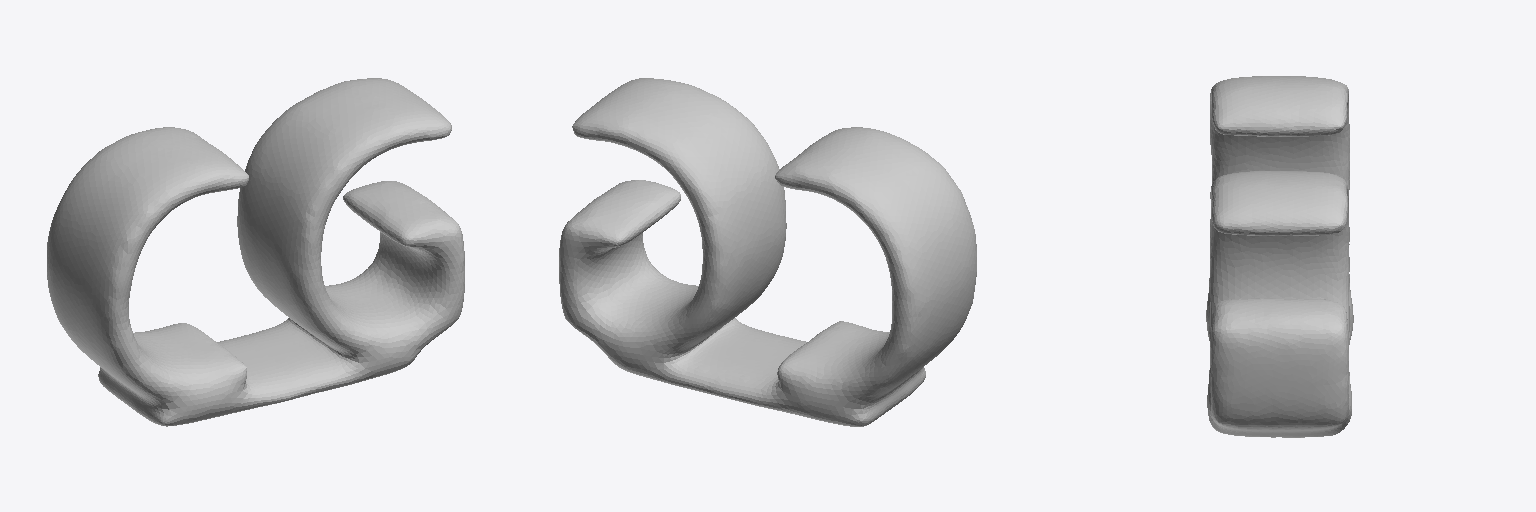
File: cg_smooth.obj
3 views of the same model, side by side, from view 1: azimuth 30°, elevation 25°; view 2: azimuth 150°, elevation 25°; view 3: azimuth 270°, elevation 25° (orthographic).
Bounding box in the file's own units: 53.21 × 35.49 × 18.44.